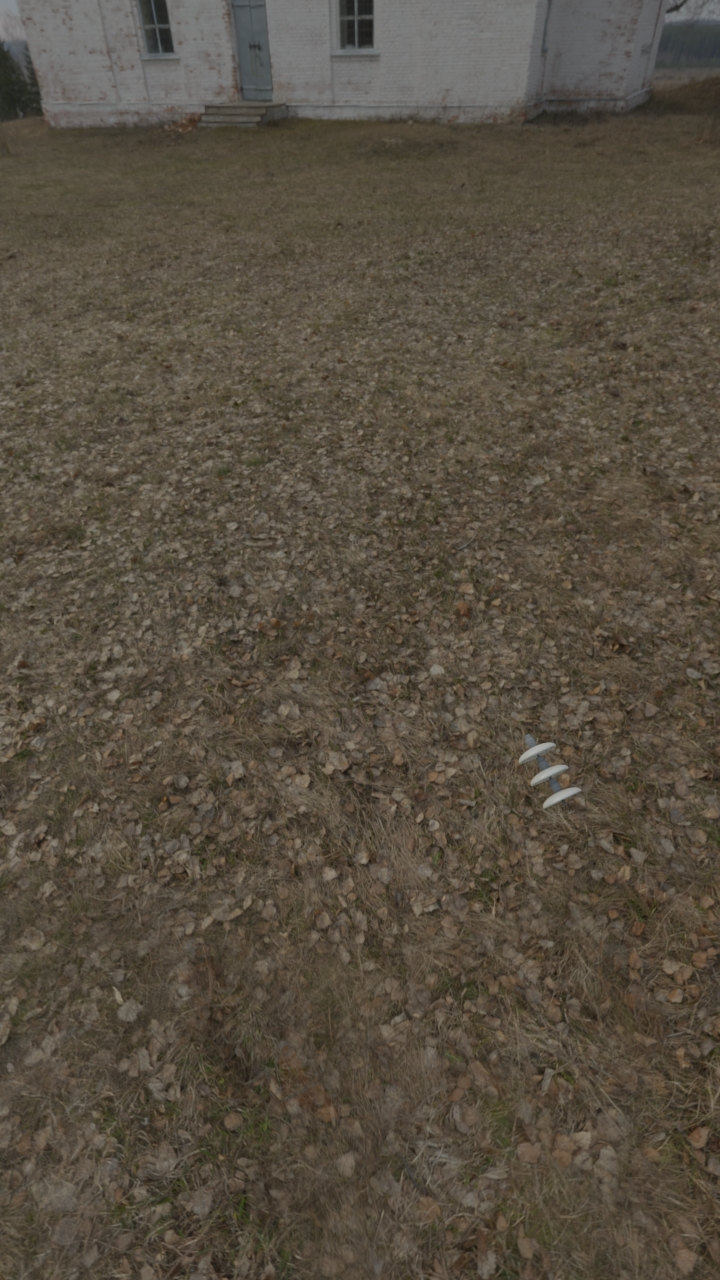ceramicinsulators: (520, 733, 580, 808)
